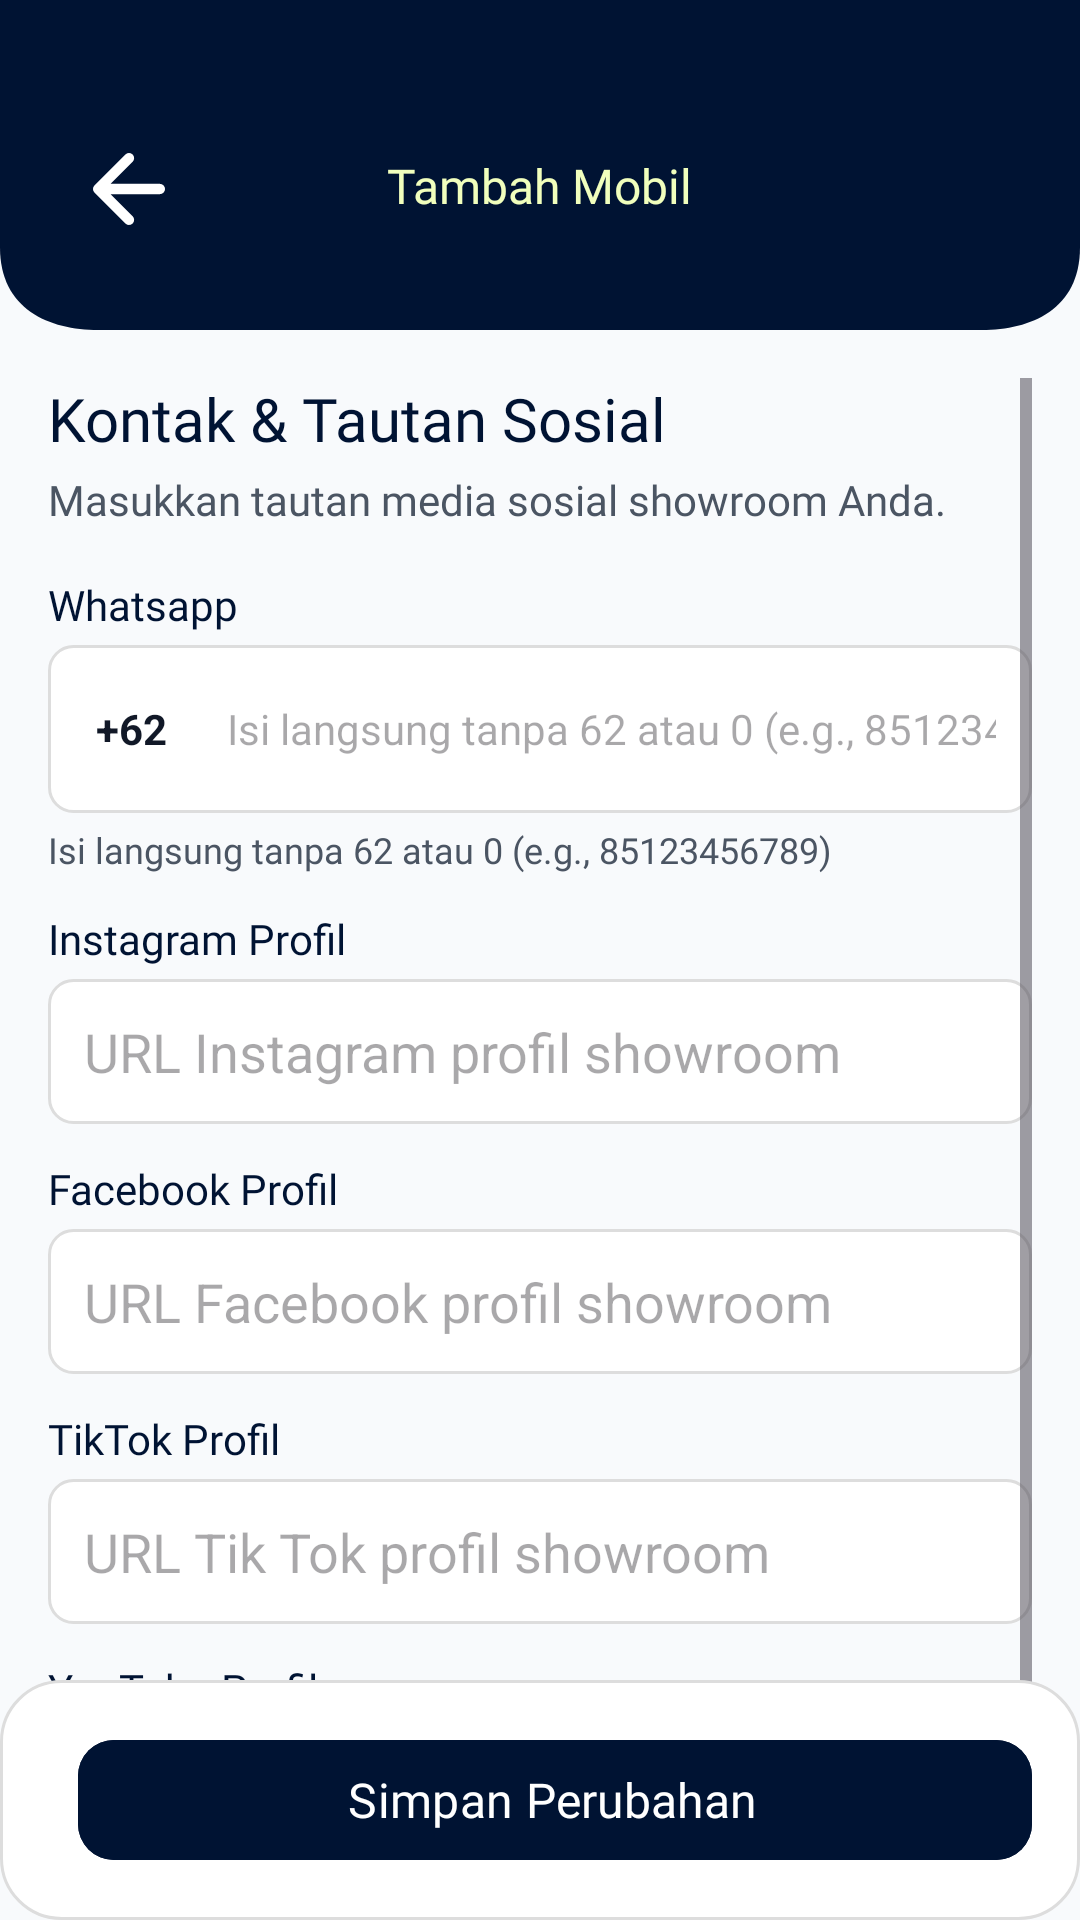

Where icons sit on this 1080*1920 app screen, as (x1, y1, x2, y2):
back: (93, 153, 165, 225)
